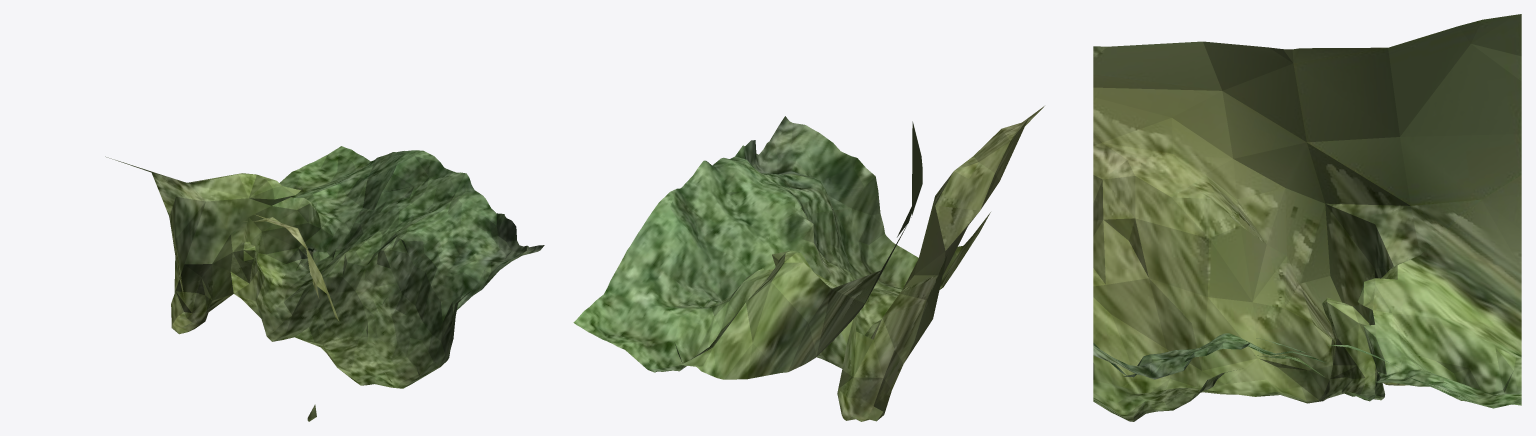
3 renders of one model, left to right at view 1: azimuth 30°, elevation 25°; view 2: azimuth 150°, elevation 25°; view 3: azimuth 270°, elevation 25°, orthographic. The views are drawn at different scales.
Size of the model in its own units: 5.49 by 4.77 by 5.9.
Materials: 4 (4 with a texture image).
